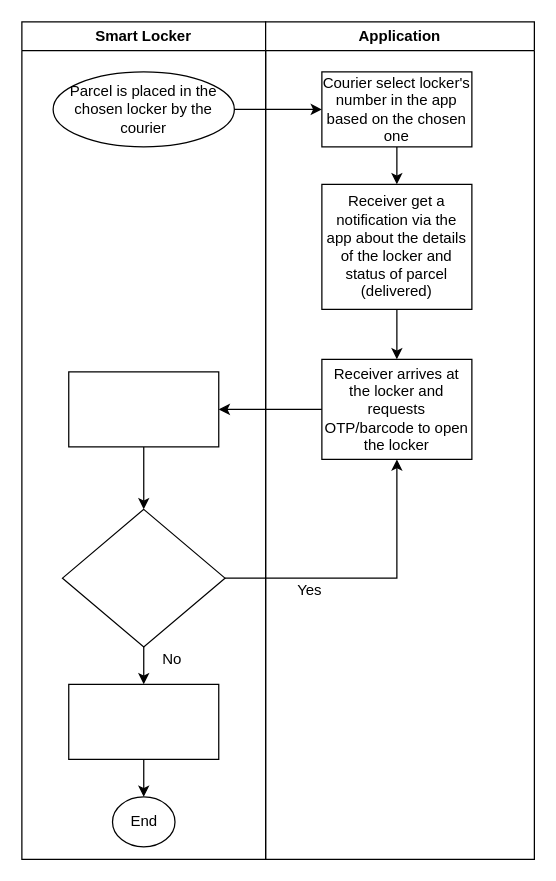
This 556x881 diagram has some shape labels left out. Each missing label, with the centre of its shape:
"Receiver claims their parcel" goes at [143,721].
"Receiver enter the password or scan the barcode to open the locker" goes at [143,409].
"Wrong password or locker do not open" goes at [143,577].
